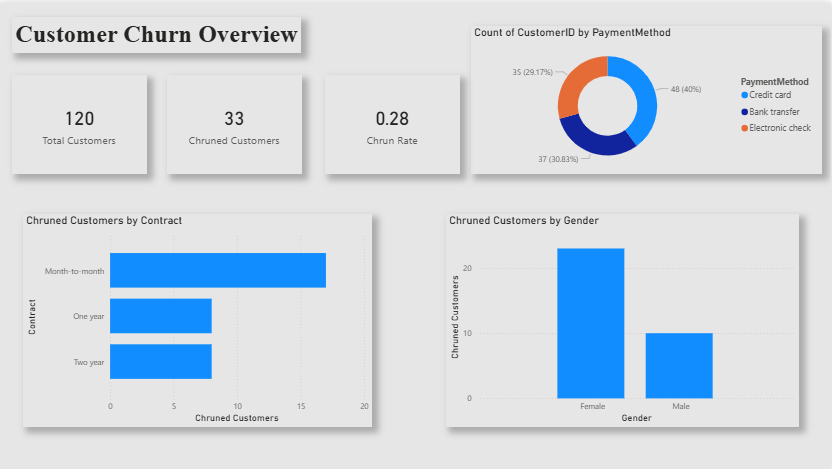

Layout of this report page (visuals, bound fields, positions):
{"tool":"powerbi","page":{"name":"Page 1","canvas":[1280,720],"ordinal":0},"visuals":[{"type":"card","fields":{"Values":["customer_churn_dataset.Total Customers"]},"box":[20,110,206.7,151.7],"z":0},{"type":"clusteredBarChart","fields":{"Category":["customer_churn_dataset.Contract"],"Y":["customer_churn_dataset.Chruned Customers"]},"box":[36.7,325,536.7,326.7],"z":1000},{"type":"clusteredColumnChart","fields":{"Category":["customer_churn_dataset.Gender"],"Y":["customer_churn_dataset.Chruned Customers"]},"box":[688.3,325,543.3,326.7],"z":2000},{"type":"donutChart","fields":{"Category":["customer_churn_dataset.PaymentMethod"],"Y":["CountNonNull(customer_churn_dataset.CustomerID)"]},"box":[726.7,35,540,226.7],"z":3000},{"type":"card","fields":{"Values":["customer_churn_dataset.Chrun Rate"]},"box":[501.7,110,206.7,151.7],"z":4000},{"type":"card","fields":{"Values":["customer_churn_dataset.Chruned Customers"]},"box":[258.3,110,206.7,151.7],"z":5000},{"type":"textbox","box":[20,21.7,445,55],"z":5001}]}

Visuals, with their boxes in screenshot pixels (x1, y1, x2, y2), scaled from the page's 1280x720 canvas onto the 832x469 screenshot:
card - customer_churn_dataset.Total Customers: x1=13 y1=72 x2=147 y2=170
clusteredBarChart - customer_churn_dataset.Contract x customer_churn_dataset.Chruned Customers: x1=24 y1=212 x2=373 y2=425
clusteredColumnChart - customer_churn_dataset.Gender x customer_churn_dataset.Chruned Customers: x1=447 y1=212 x2=801 y2=425
donutChart - customer_churn_dataset.PaymentMethod x CountNonNull(customer_churn_dataset.CustomerID): x1=472 y1=23 x2=823 y2=170
card - customer_churn_dataset.Chrun Rate: x1=326 y1=72 x2=460 y2=170
card - customer_churn_dataset.Chruned Customers: x1=168 y1=72 x2=302 y2=170
textbox: x1=13 y1=14 x2=302 y2=50
